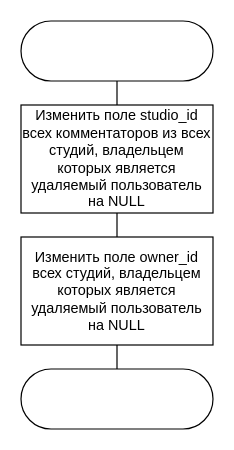
Some shapes in this 234 by 450 pixel diagram are drawn without their labels. The centre of each missing label's shape, as x and y in pixels:
Конец: (116,398)
Начало: (116,50)
